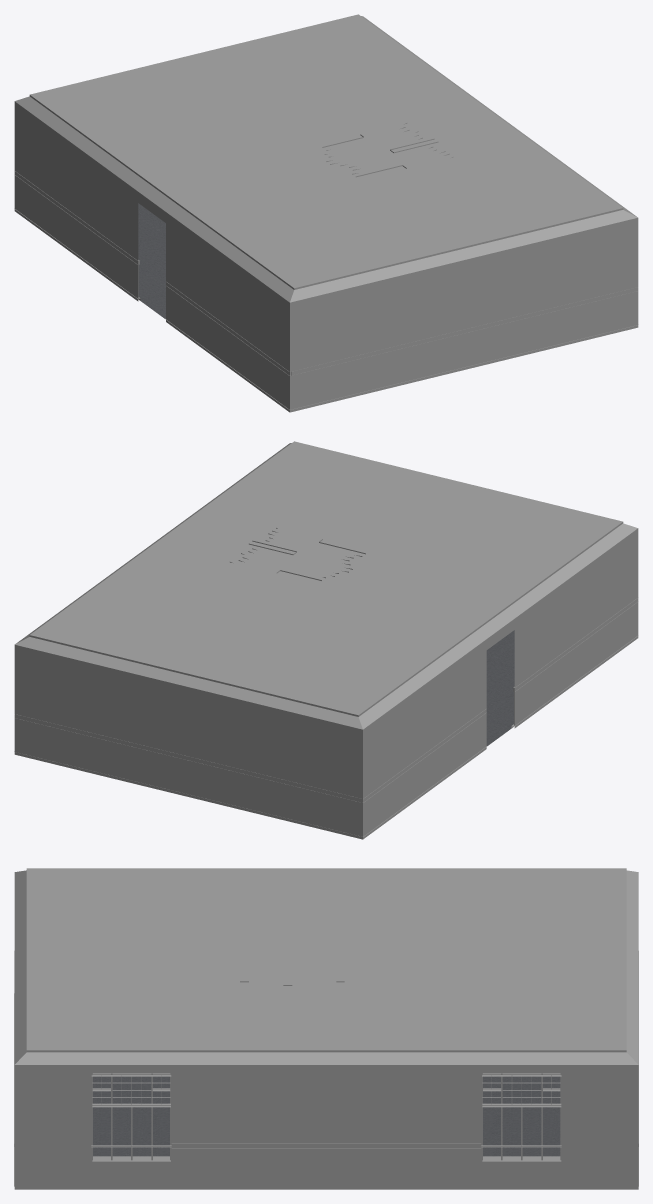
Rendered from Corridor_RoomB.fbx.
The picture shows the model from 3 angles, top to bottom: view 1: azimuth 30°, elevation 25°; view 2: azimuth 150°, elevation 25°; view 3: azimuth 270°, elevation 25°; orthographic projection. The views are drawn at different scales.
Parts seen in each view (by area): view 1: Mesh; view 2: Mesh; view 3: Mesh.
Part boxes in pixels (<box>): Mesh: <box>14,14,638,412</box>; Mesh: <box>14,441,638,839</box>; Mesh: <box>14,868,638,1189</box>.
Size of the model in its own units: 754 by 242 by 1016.
